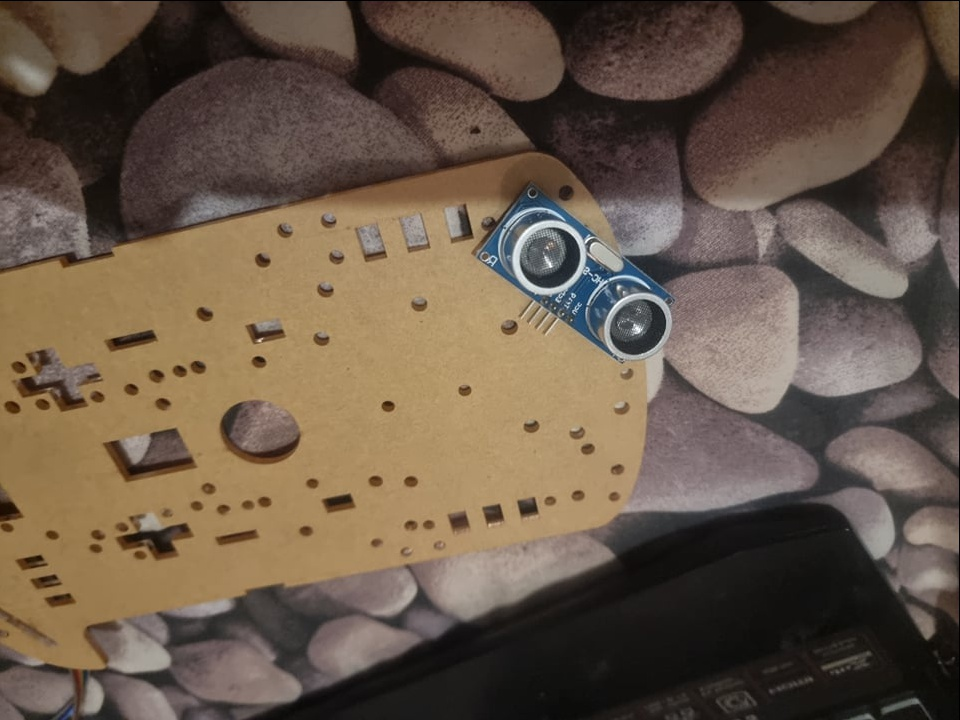SENSOR: (469, 178, 676, 362)
